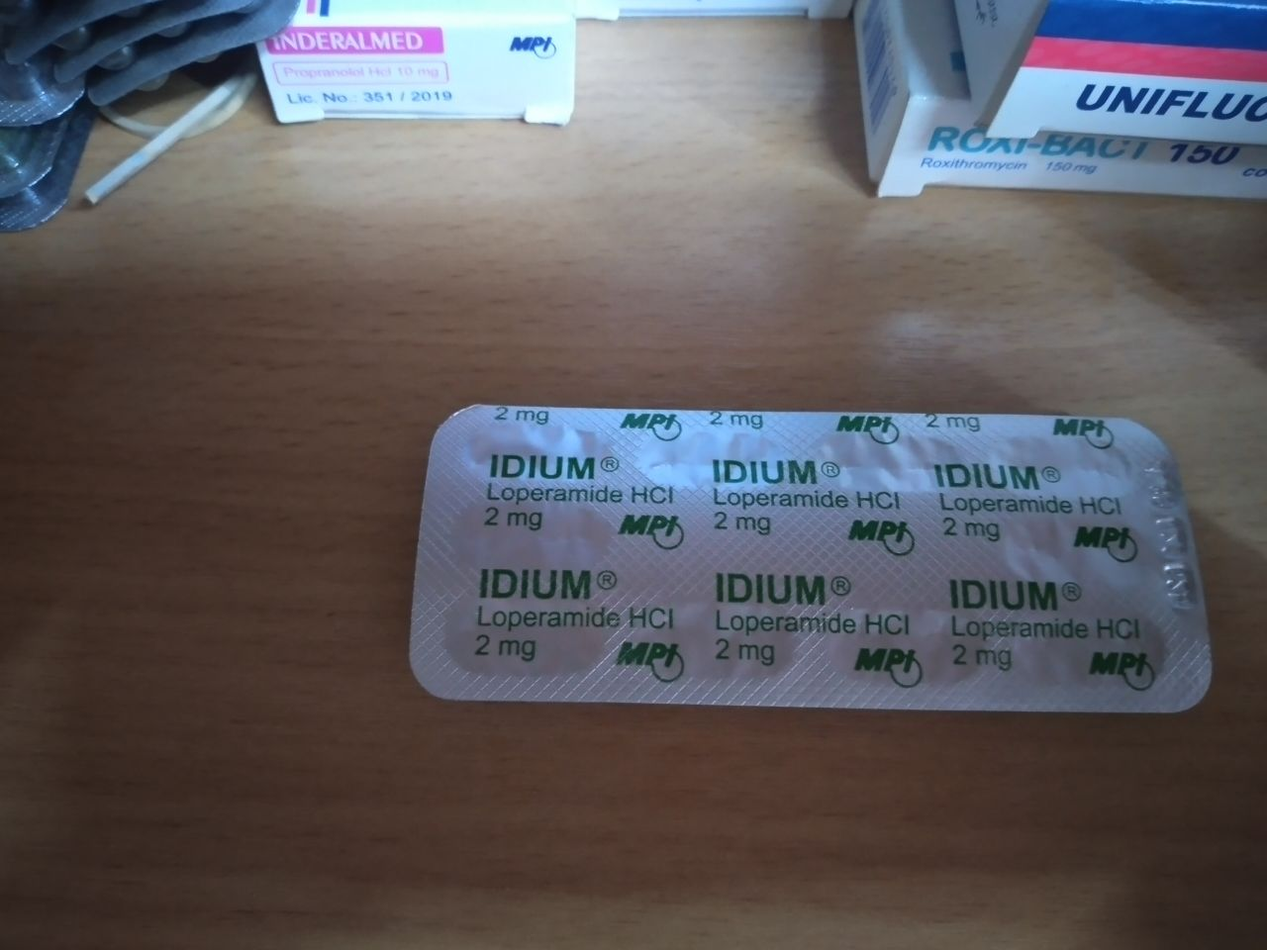Medicine: (416, 396, 1222, 745)
